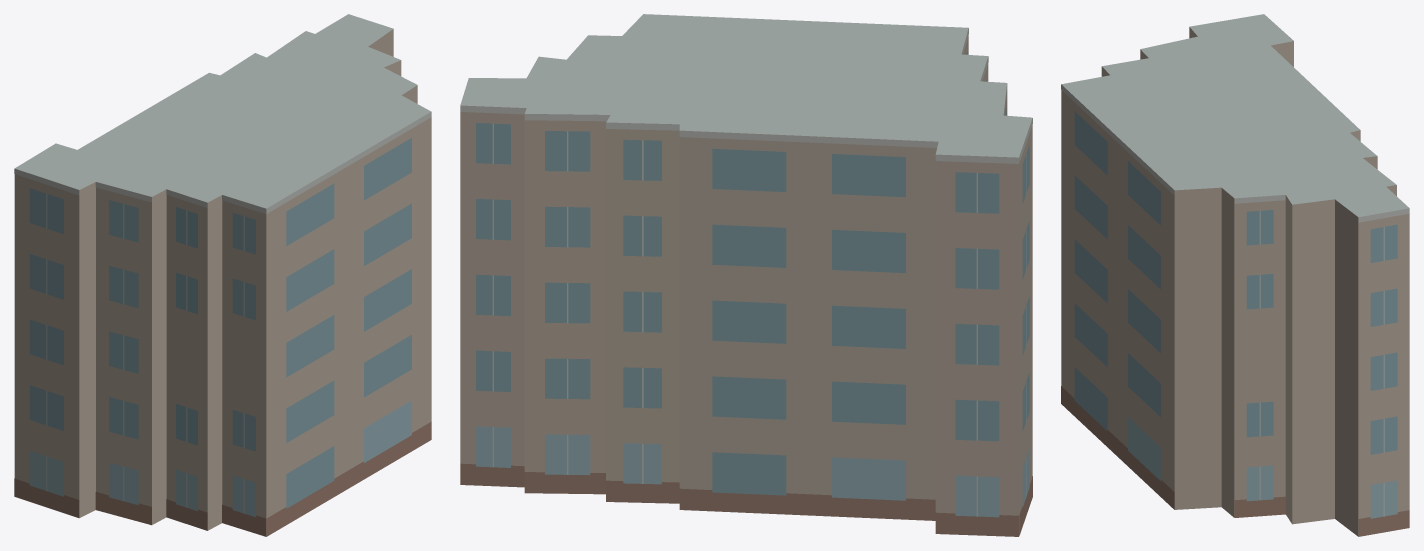
Rendered from survey-upis-32506228.glb.
3 views of the same model, side by side, from view 1: azimuth 30°, elevation 25°; view 2: azimuth 150°, elevation 25°; view 3: azimuth 270°, elevation 25° (orthographic). The views are drawn at different scales.
Visible parts, largest first — view 1: survey-upis-32506228.tmp; view 2: survey-upis-32506228.tmp; view 3: survey-upis-32506228.tmp.
Boxes of the visible parts, x1,y1,x2,y2 form: survey-upis-32506228.tmp: (14,14,431,536); survey-upis-32506228.tmp: (460,14,1032,536); survey-upis-32506228.tmp: (1061,14,1409,536).
Size of the model in its own units: 19.79 by 14.5 by 14.34.
